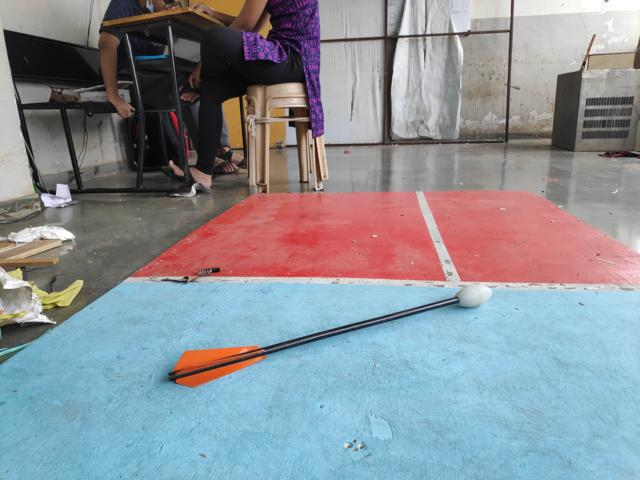Head: (452, 283, 495, 311)
Tail: (166, 342, 270, 390)
